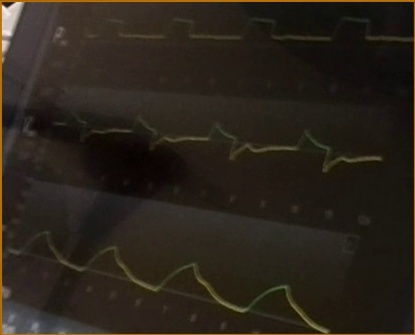Premature_cycling Flow: (54, 101, 381, 174)
Premature_cycling Volume: (10, 228, 329, 331)
